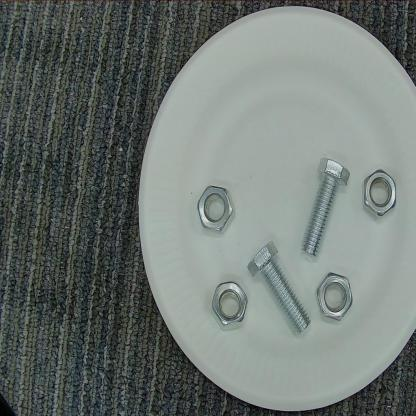FOD: (246, 239, 313, 343), (300, 152, 353, 262), (196, 181, 240, 241), (360, 165, 401, 227), (314, 270, 357, 329), (209, 276, 250, 334)
